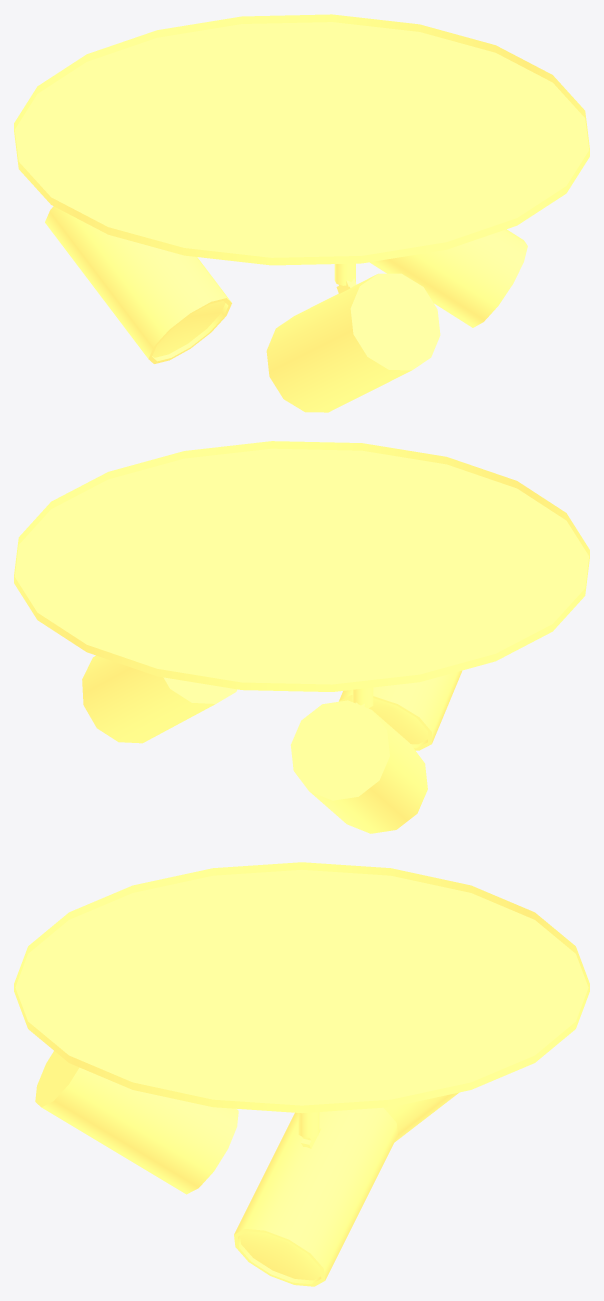
File: SM_Light_Ceiling_01.FBX
3 views of the same model, one above another, from view 1: azimuth 30°, elevation 25°; view 2: azimuth 150°, elevation 25°; view 3: azimuth 270°, elevation 25° (orthographic).
Parts seen in each view (by area): view 1: SM_Light_Ceiling_01; view 2: SM_Light_Ceiling_01; view 3: SM_Light_Ceiling_01.
Part boxes in pixels (box(x1,y1,x2,y2)): SM_Light_Ceiling_01: box(14, 14, 589, 412); SM_Light_Ceiling_01: box(14, 441, 589, 833); SM_Light_Ceiling_01: box(14, 862, 589, 1286).
Bounding box in the file's own units: 40.11 × 40.11 × 17.05.
